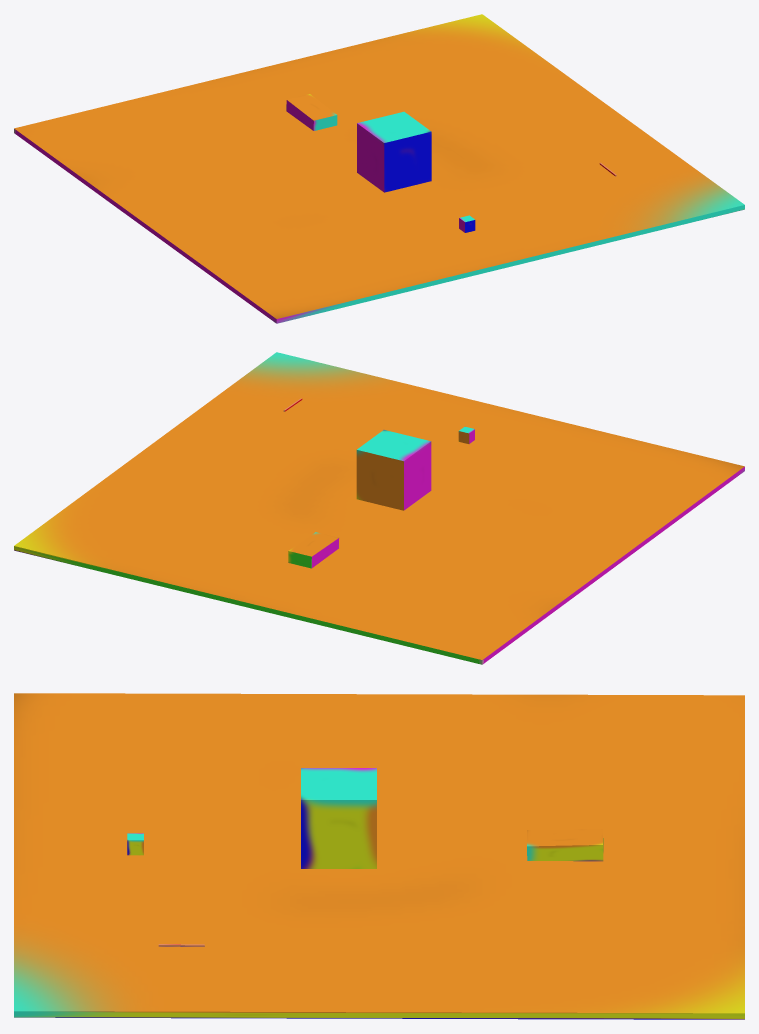
Rendered from tilted.gltf.
3 views of the same model, one above another, from view 1: azimuth 30°, elevation 25°; view 2: azimuth 150°, elevation 25°; view 3: azimuth 270°, elevation 25° (orthographic). The views are drawn at different scales.
Parts seen in each view (by area): view 1: Cube, Cube.001, Cube.003; view 2: Cube, Cube.001, Cube.003; view 3: Cube, Cube.001, Cube.003.
Boxes of the visible parts, left/top/right/bottom form: Cube: left=14, top=14, right=744, bottom=323; Cube.001: left=357, top=111, right=431, bottom=192; Cube.003: left=286, top=94, right=337, bottom=130; Cube: left=14, top=352, right=744, bottom=664; Cube.001: left=356, top=430, right=431, bottom=510; Cube.003: left=288, top=532, right=339, bottom=568; Cube: left=14, top=693, right=744, bottom=1019; Cube.001: left=301, top=768, right=376, bottom=868; Cube.003: left=527, top=829, right=603, bottom=861.
Size of the model in its own units: 19.8 by 2.23 by 19.23.
Materials: 2 (2 with a texture image).
